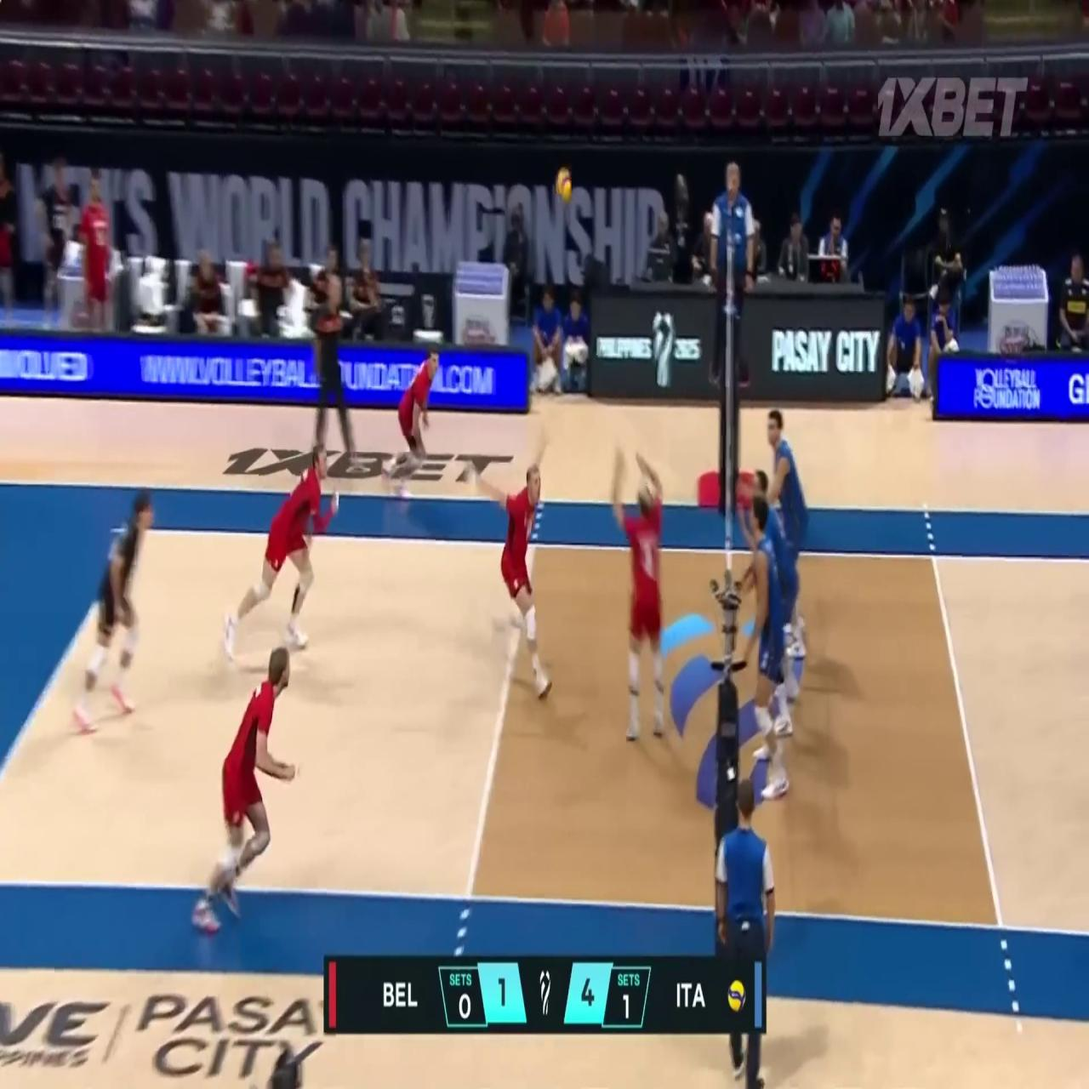ball: (554, 168, 572, 202)
